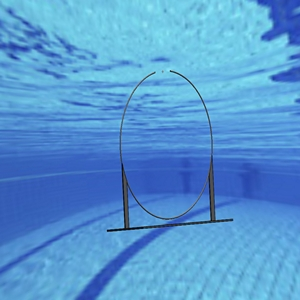circle: (108, 68, 232, 232)
